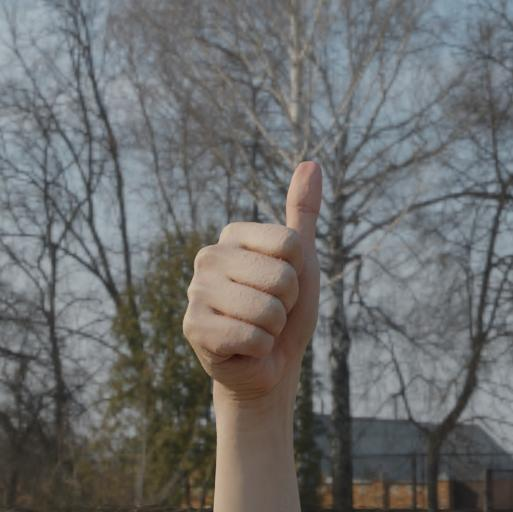thumbs-up: (182, 144, 323, 394)
